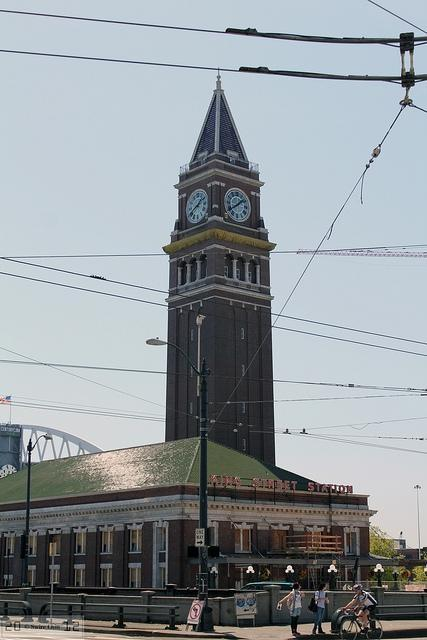bicycle: (340, 607, 384, 640)
